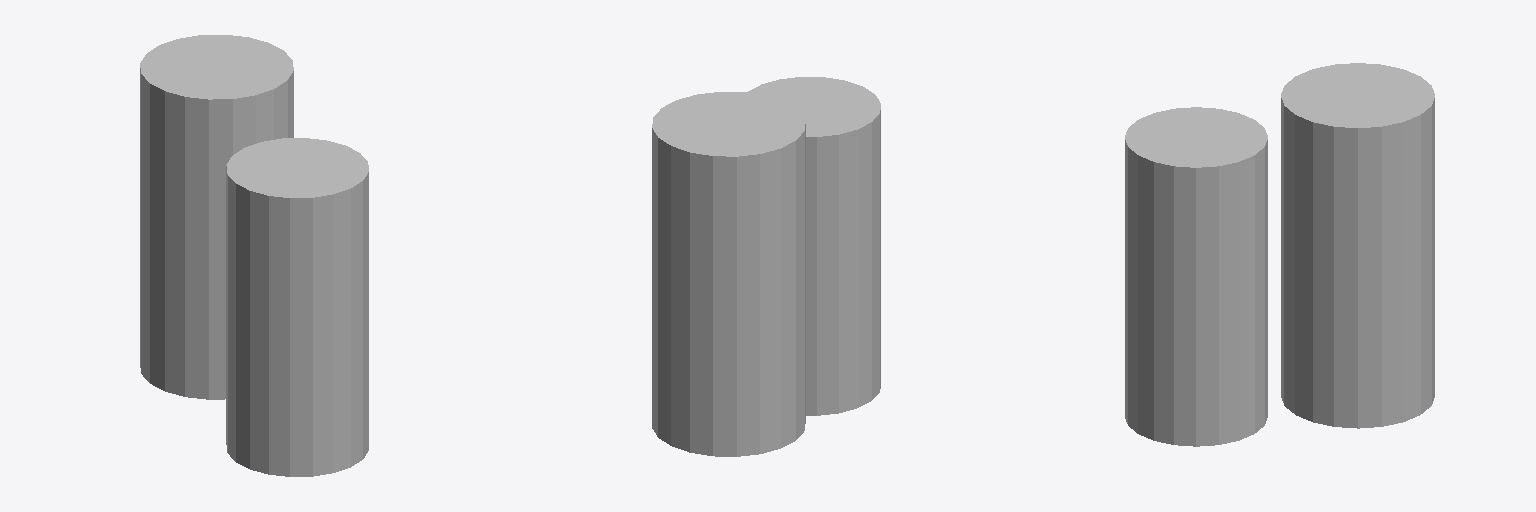
The model's file is BG_DETAILS.obj.
The picture shows the model from 3 angles: view 1: azimuth 30°, elevation 25°; view 2: azimuth 150°, elevation 25°; view 3: azimuth 270°, elevation 25°; orthographic projection.
Parts seen in each view (by area): view 1: DETAILS1; view 2: DETAILS1; view 3: DETAILS1.
Boxes of the visible parts, x1,y1,x2,y2 form: DETAILS1: [140, 35, 368, 476]; DETAILS1: [652, 77, 880, 456]; DETAILS1: [1125, 63, 1434, 446].
Size of the model in its own units: 37.76 by 86.33 by 75.85.